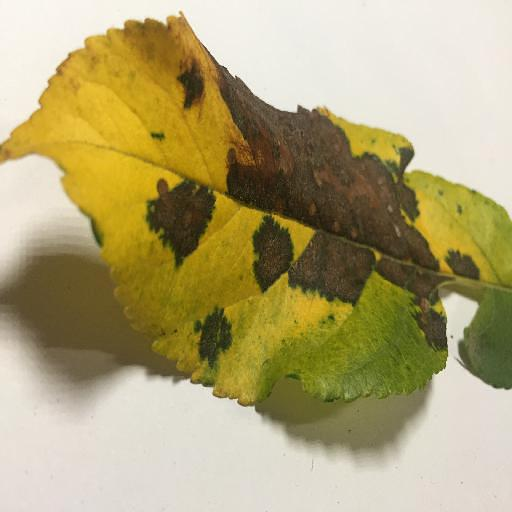Brown_Spot: (174, 66, 457, 276), (295, 231, 379, 307), (134, 185, 213, 249), (247, 218, 289, 284), (409, 300, 447, 352), (441, 244, 488, 282)
